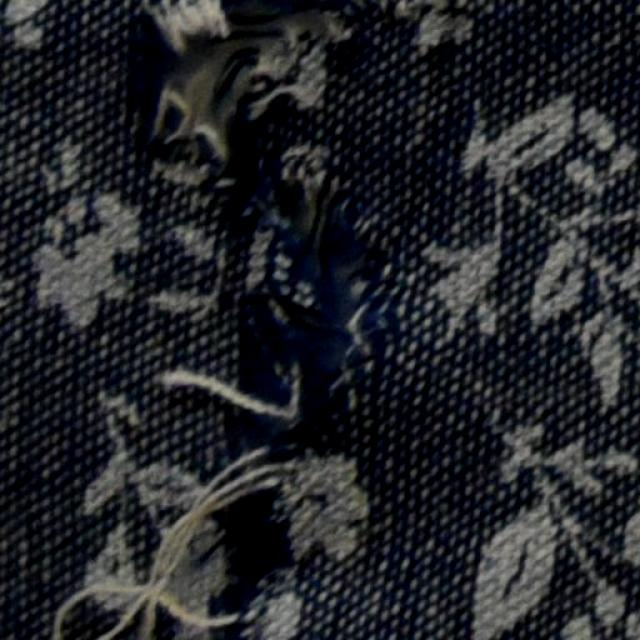Hole: (162, 40, 242, 119)
Snag: (41, 158, 401, 639), (112, 0, 268, 171)
